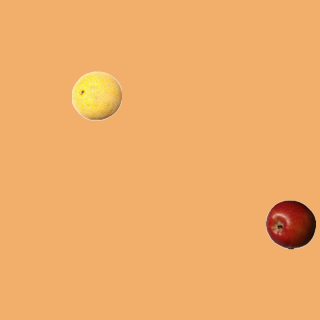Apple Braeburn: (265, 199, 315, 249)
Cantaloupe 1: (71, 70, 121, 120)
